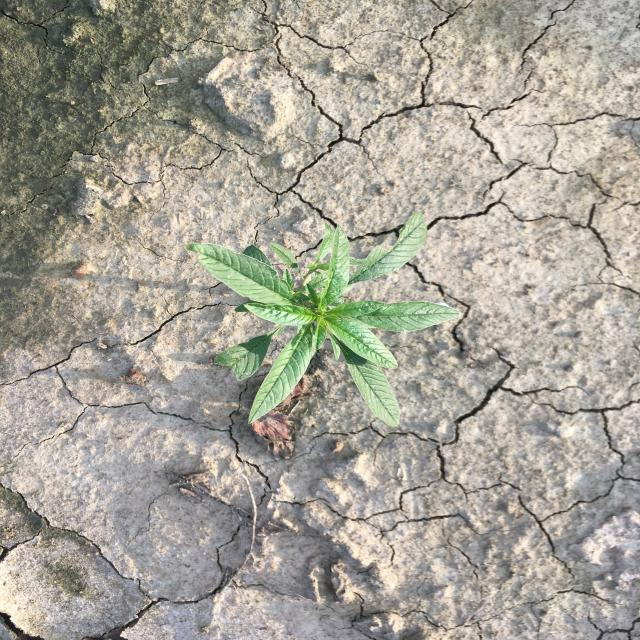Waterhemp: (183, 208, 463, 430)
